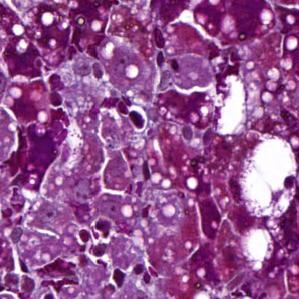ballooning: (238, 131, 299, 219)
